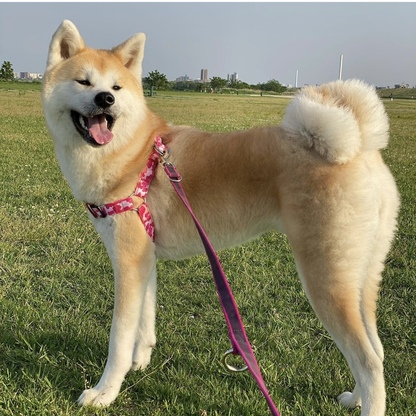akita: (37, 14, 408, 415)
